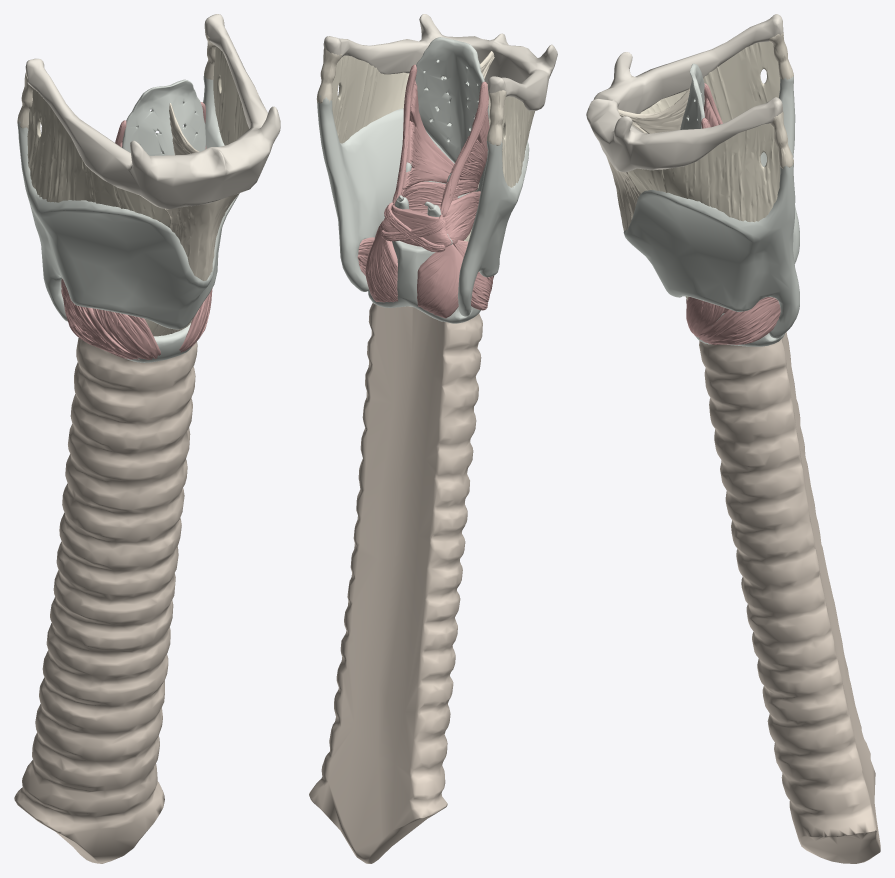
3 renders of one model, left to right at view 1: azimuth 30°, elevation 25°; view 2: azimuth 150°, elevation 25°; view 3: azimuth 270°, elevation 25°, orthographic. The views are drawn at different scales.
Parts seen in each view (by area): view 1: larynx_fma7394, larynx_fma55099, larynx_fma52749, larynx_fma55133, larynx_fma55130, larynx_fma55138, larynx_fma55134, larynx_fma46611, larynx_fma46613, larynx_fma9615, larynx_fma46612, larynx_fma55227; view 2: larynx_fma7394, larynx_fma55099, larynx_fma52749, larynx_fma55130, larynx_fma55134, larynx_fma46590, larynx_fma46589, larynx_fma46577, larynx_fma9615, larynx_fma55133, larynx_fma46578, larynx_fma46604 (+7 smaller); view 3: larynx_fma7394, larynx_fma55099, larynx_fma52749, larynx_fma55134, larynx_fma55133, larynx_fma46614, larynx_fma55227, larynx_fma55130, larynx_fma55138, larynx_fma46612, larynx_fma55141, larynx_fma55140.
Part boxes in pixels (x1,y1,x2,y2): larynx_fma7394: (14, 338, 197, 863); larynx_fma55099: (17, 75, 239, 329); larynx_fma52749: (25, 14, 280, 209); larynx_fma55133: (27, 89, 170, 227); larynx_fma55130: (122, 79, 205, 155); larynx_fma55138: (165, 193, 238, 280); larynx_fma55134: (213, 46, 248, 145); larynx_fma46611: (93, 308, 160, 359); larynx_fma46613: (61, 278, 139, 359); larynx_fma9615: (125, 323, 192, 362); larynx_fma46612: (179, 288, 212, 352); larynx_fma55227: (169, 103, 199, 155); larynx_fma7394: (309, 303, 482, 863); larynx_fma55099: (317, 95, 529, 316); larynx_fma52749: (323, 14, 557, 110); larynx_fma55130: (415, 37, 489, 162); larynx_fma55134: (332, 55, 409, 143); larynx_fma46590: (384, 80, 457, 219); larynx_fma46589: (439, 108, 489, 244); larynx_fma46577: (417, 244, 463, 318); larynx_fma9615: (368, 240, 480, 323); larynx_fma55133: (502, 96, 534, 187); larynx_fma46578: (365, 230, 397, 302); larynx_fma46604: (440, 81, 488, 216); larynx_fma7394: (699, 332, 880, 863); larynx_fma55099: (623, 76, 799, 338); larynx_fma52749: (586, 14, 783, 172); larynx_fma55134: (627, 123, 780, 222); larynx_fma55133: (640, 41, 780, 123); larynx_fma46614: (698, 297, 780, 344); larynx_fma55227: (618, 88, 689, 133); larynx_fma55130: (680, 63, 704, 129); larynx_fma55138: (606, 156, 640, 230); larynx_fma46612: (686, 297, 724, 337); larynx_fma55141: (770, 111, 793, 168); larynx_fma55140: (769, 32, 793, 79).
Size of the model in its own units: 3.87 by 15.58 by 5.16.
